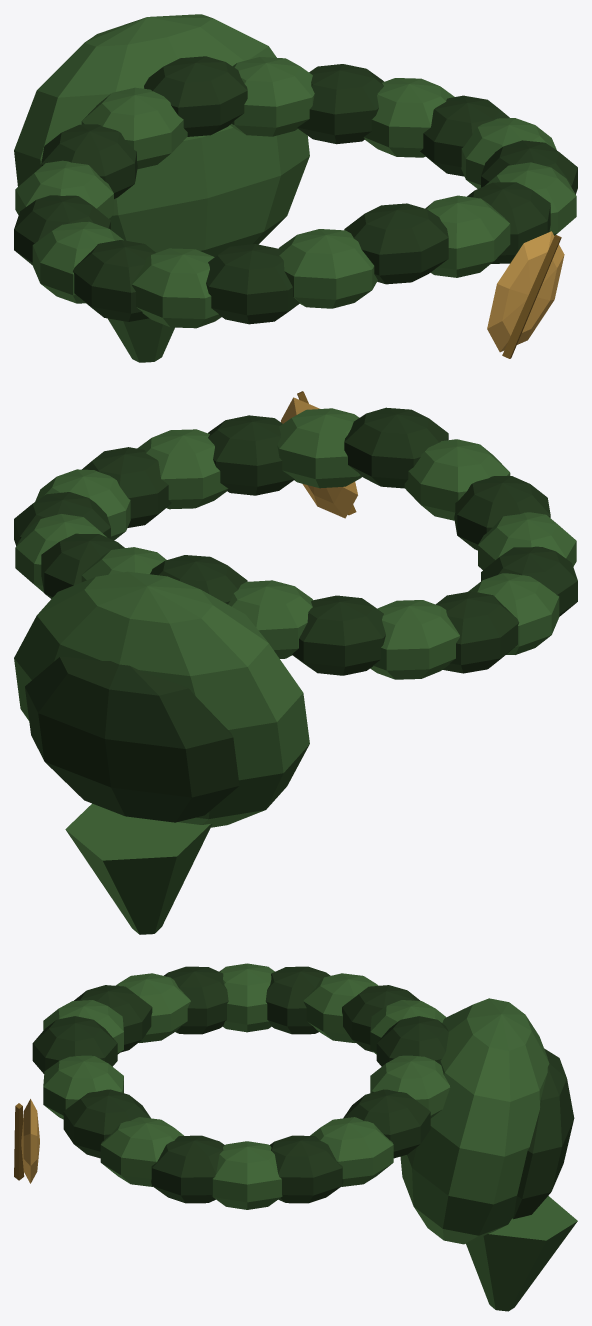
File: ranger_mantle.glb
The picture shows the model from 3 angles, top to bottom: view 1: azimuth 30°, elevation 25°; view 2: azimuth 150°, elevation 25°; view 3: azimuth 270°, elevation 25°; orthographic projection. The views are drawn at different scales.
Visible parts, largest first — view 1: ranger_mantle; view 2: ranger_mantle; view 3: ranger_mantle.
Boxes of the visible parts, x1,y1,x2,y2 form: ranger_mantle: (14,14,577,362); ranger_mantle: (14,391,577,934); ranger_mantle: (14,963,577,1311).
Bounding box in the file's own units: 0.7931 × 0.5083 × 0.8852.
